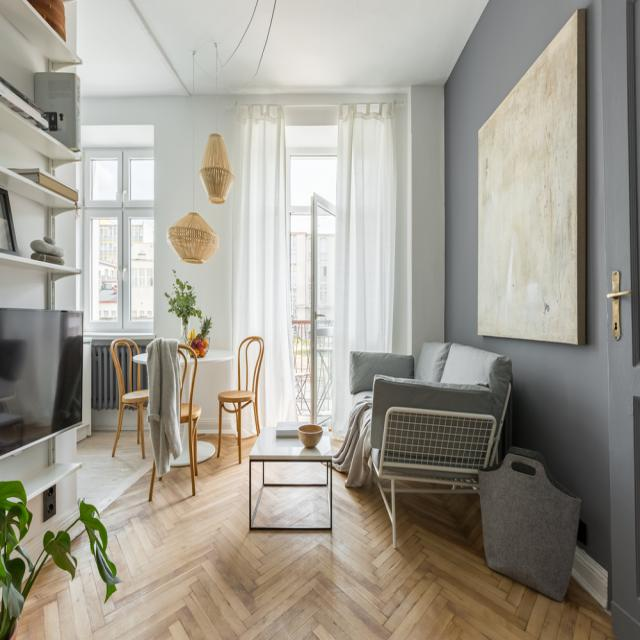modern chair: (141, 335, 203, 495), (220, 331, 262, 462), (105, 333, 147, 460)
modern desk: (249, 410, 335, 536)
modern sofa: (343, 334, 516, 550)
